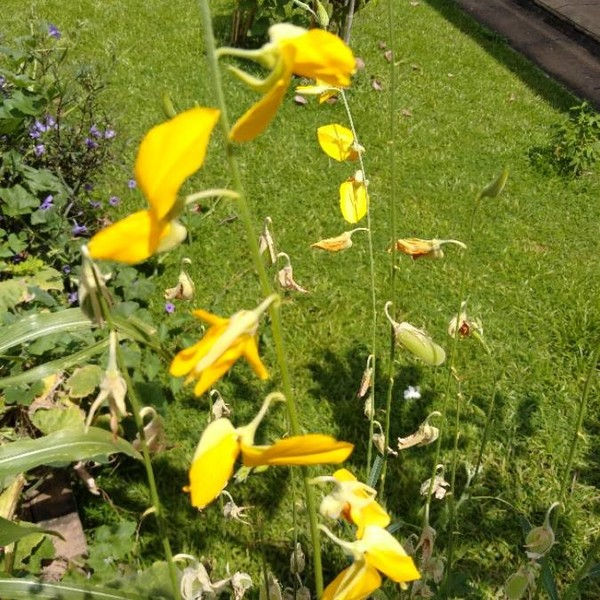obstacle: (143, 39, 442, 578)
